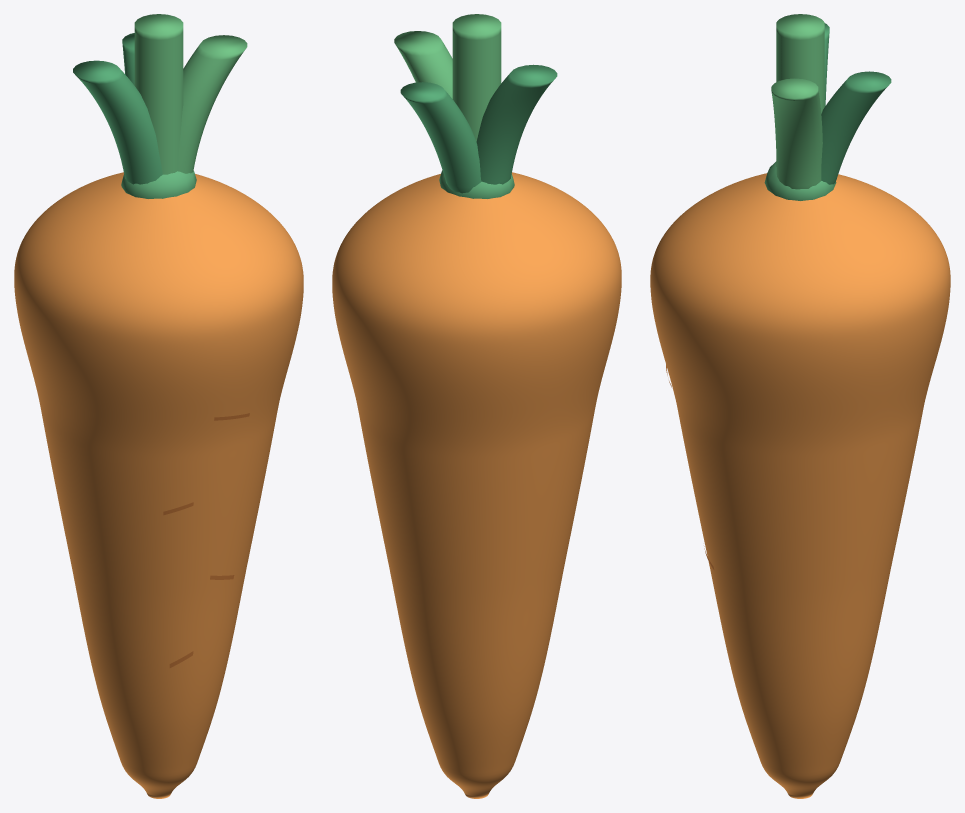
The model's file is Crop_Carrot_Normal_v001_model.fbx.
3 renders of one model, left to right at view 1: azimuth 30°, elevation 25°; view 2: azimuth 150°, elevation 25°; view 3: azimuth 270°, elevation 25°, orthographic.
Visible parts, largest first — view 1: Crop_Carrot_Normal_v001_Body_Blockout, LeafStem_Center, LeafStem_Left, LeafStem_Right, LeafStem_RoundedRoot_Knot, LeafStem_Back; view 2: Crop_Carrot_Normal_v001_Body_Blockout, LeafStem_Left, LeafStem_Center, LeafStem_Back, LeafStem_Right, LeafStem_RoundedRoot_Knot; view 3: Crop_Carrot_Normal_v001_Body_Blockout, LeafStem_Right, LeafStem_Back, LeafStem_Center, LeafStem_RoundedRoot_Knot.
Boxes of the visible parts, box(x1,y1,x2,y2) form: Crop_Carrot_Normal_v001_Body_Blockout: box(14, 172, 303, 798); LeafStem_Center: box(134, 14, 183, 174); LeafStem_Left: box(73, 60, 162, 184); LeafStem_Right: box(177, 35, 247, 173); LeafStem_RoundedRoot_Knot: box(121, 170, 196, 198); LeafStem_Back: box(122, 33, 134, 85); Crop_Carrot_Normal_v001_Body_Blockout: box(332, 172, 621, 798); LeafStem_Left: box(476, 64, 557, 184); LeafStem_Center: box(452, 14, 501, 141); LeafStem_Back: box(400, 82, 481, 193); LeafStem_Right: box(394, 31, 452, 171); LeafStem_RoundedRoot_Knot: box(439, 170, 514, 198); Crop_Carrot_Normal_v001_Body_Blockout: box(650, 173, 950, 798); LeafStem_Right: box(771, 78, 822, 189); LeafStem_Back: box(821, 71, 891, 184); LeafStem_Center: box(776, 14, 824, 166); LeafStem_RoundedRoot_Knot: box(764, 161, 836, 200).
Bounding box in the file's own units: 99.72 × 297 × 105.
